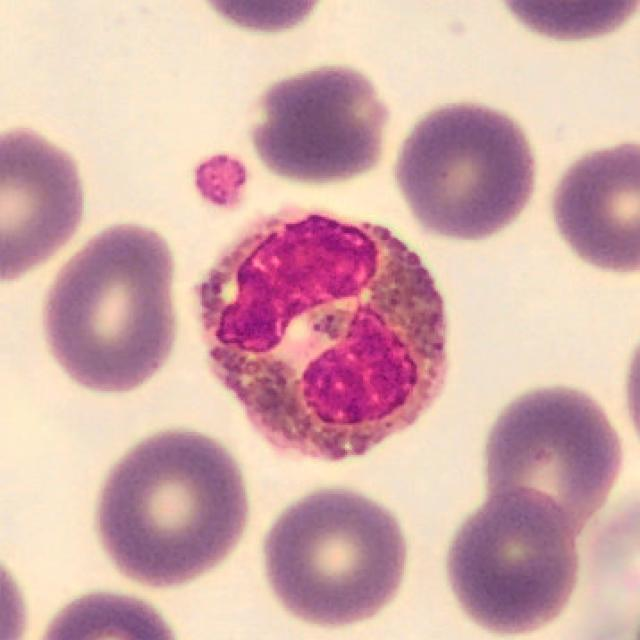Eosinofilo: (193, 212, 449, 464)
